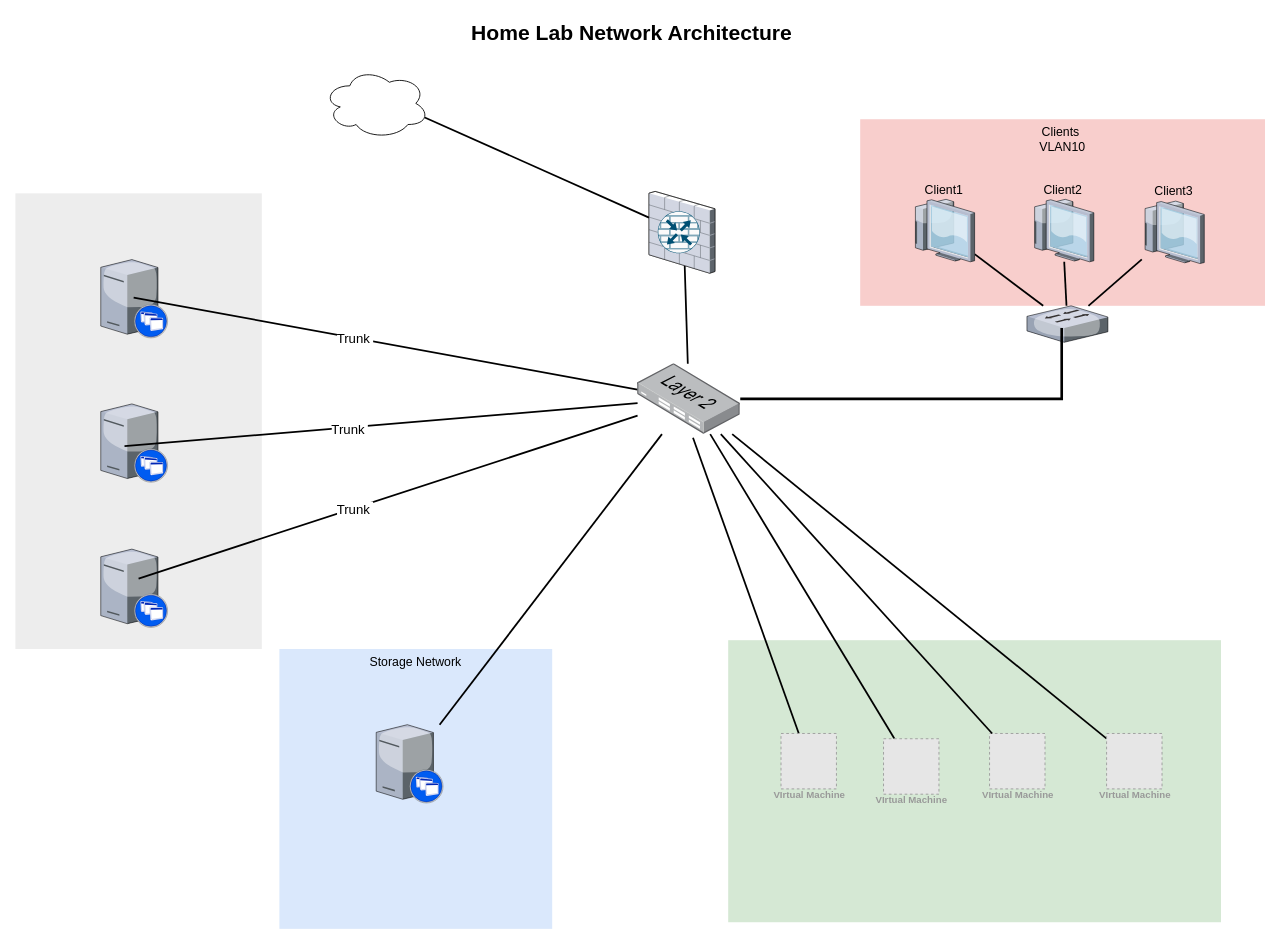
Some shapes in this 1280 by 943 pixel diagram are drawn without their labels. Grey dashed boxes stand in for pictures. The shapes that lost their labels are listed below. From the top down, each one's box as (x1, y1, x2, y2) in pixels, then its label:
(323, 67, 429, 139): Internet
(15, 193, 261, 649): Virtualization Hosts ESXi/ProxMox VLAN15
(376, 724, 443, 803): Storage Server
(728, 640, 1221, 922): Virtual Machines VLAN20
